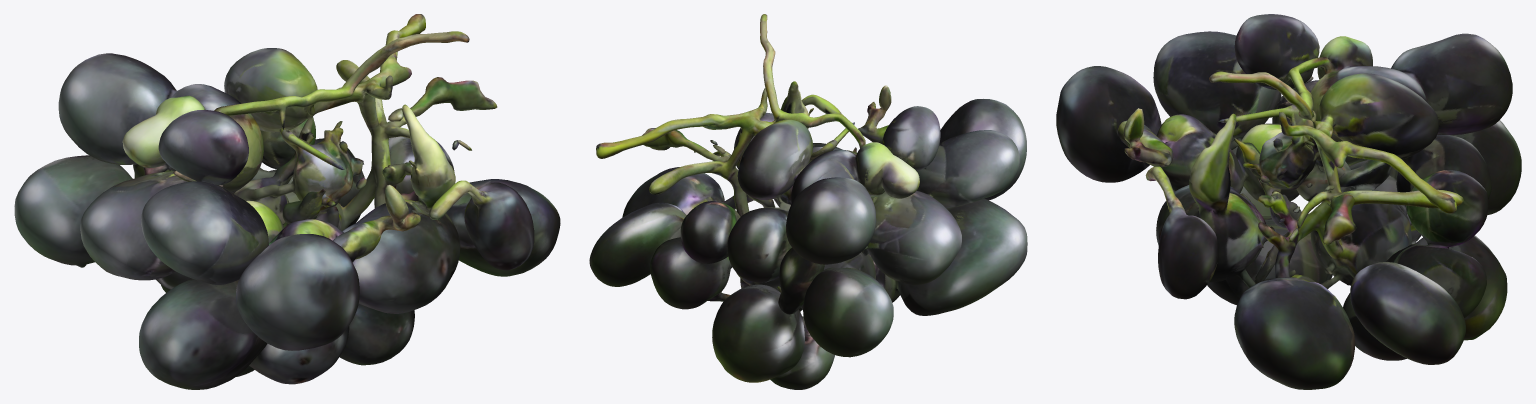
File: tree0084.gltf
3 views of the same model, side by side, from view 1: azimuth 30°, elevation 25°; view 2: azimuth 150°, elevation 25°; view 3: azimuth 270°, elevation 25° (orthographic). The views are drawn at different scales.
Parts seen in each view (by area): view 1: Mesh_0.060; view 2: Mesh_0.060; view 3: Mesh_0.060.
Boxes of the visible parts, left/top/right/bottom form: Mesh_0.060: left=14, top=14, right=560, bottom=389; Mesh_0.060: left=589, top=14, right=1027, bottom=389; Mesh_0.060: left=1056, top=14, right=1521, bottom=389.
Size of the model in its own units: 1.99 by 1.57 by 1.91.
1 material, 1 textured.
